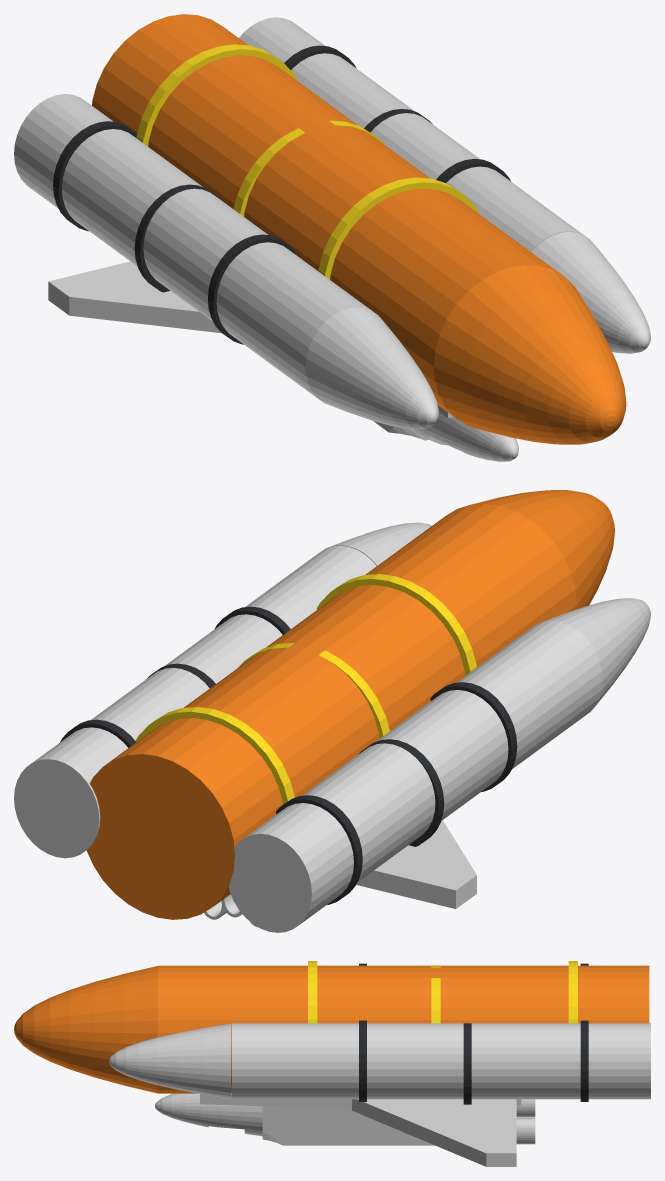
The model's file is rocketship.obj.
3 views of the same model, one above another, from view 1: azimuth 30°, elevation 25°; view 2: azimuth 150°, elevation 25°; view 3: azimuth 270°, elevation 25° (orthographic). The views are drawn at different scales.
Parts seen in each view (by area): view 1: group_0_16089887, group_0_16448250, group_0_16768282, group_0_2829873; view 2: group_0_16089887, group_0_16448250, group_0_16768282, group_0_2829873; view 3: group_0_16448250, group_0_16089887, group_0_2829873, group_0_16768282.
Boxes of the visible parts, <box> form: group_0_16089887: <box>92,14,626,444</box>; group_0_16448250: <box>14,17,650,461</box>; group_0_16768282: <box>136,44,478,279</box>; group_0_2829873: <box>53,45,510,344</box>; group_0_16089887: <box>86,490,614,919</box>; group_0_16448250: <box>14,522,650,932</box>; group_0_16768282: <box>135,574,476,804</box>; group_0_2829873: <box>60,606,517,904</box>; group_0_16448250: <box>109,1023,650,1166</box>; group_0_16089887: <box>14,965,649,1093</box>; group_0_2829873: <box>359,963,588,1104</box>; group_0_16768282: <box>308,961,577,1023</box>.
Size of the model in its own units: 74.05 by 39 by 134.
